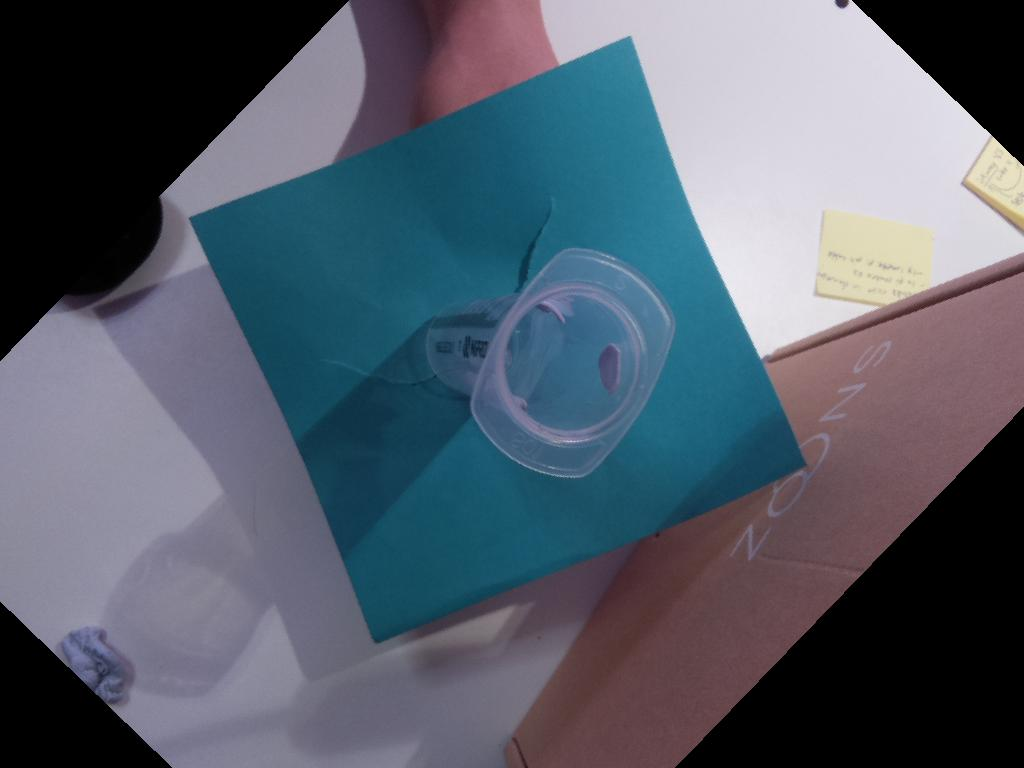dirty: (471, 248, 674, 480)
